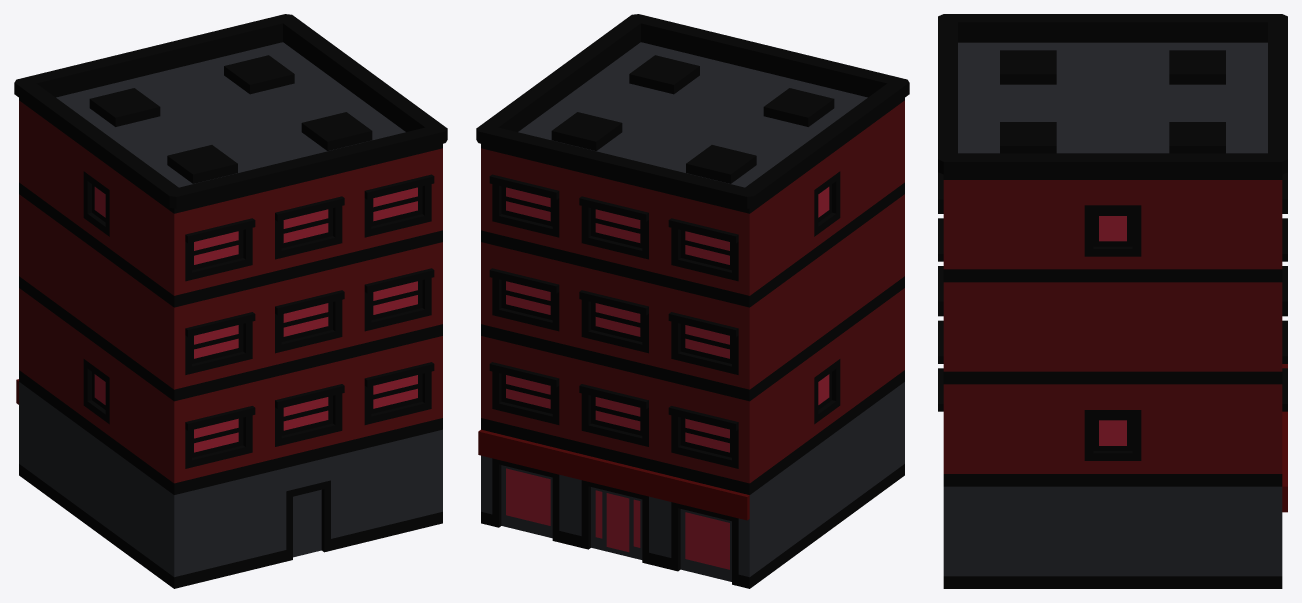
3 renders of one model, left to right at view 1: azimuth 30°, elevation 25°; view 2: azimuth 150°, elevation 25°; view 3: azimuth 270°, elevation 25°, orthographic. The views are drawn at different scales.
Parts seen in each view (by area): view 1: large_buildingD; view 2: large_buildingD; view 3: large_buildingD.
Boxes of the visible parts, x1,y1,x2,y2 form: large_buildingD: (14,14,447,588); large_buildingD: (476,14,909,588); large_buildingD: (938,14,1287,588).
Size of the model in its own units: 1.24 by 1.68 by 1.24.
